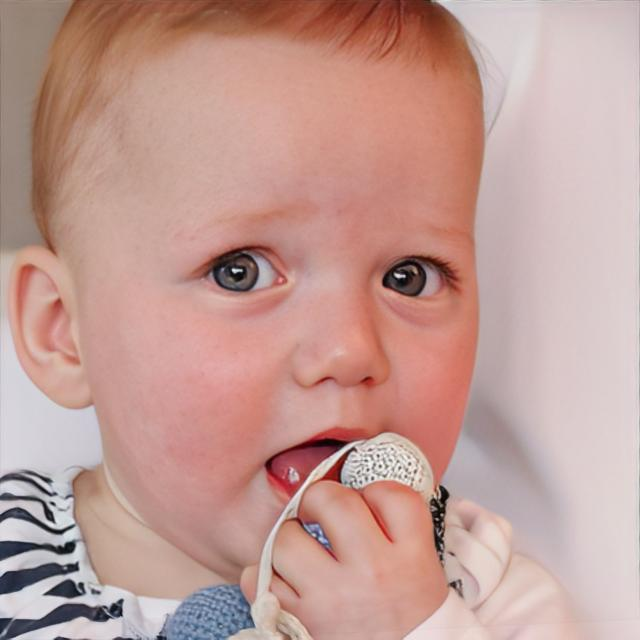fear: (34, 0, 487, 574)
